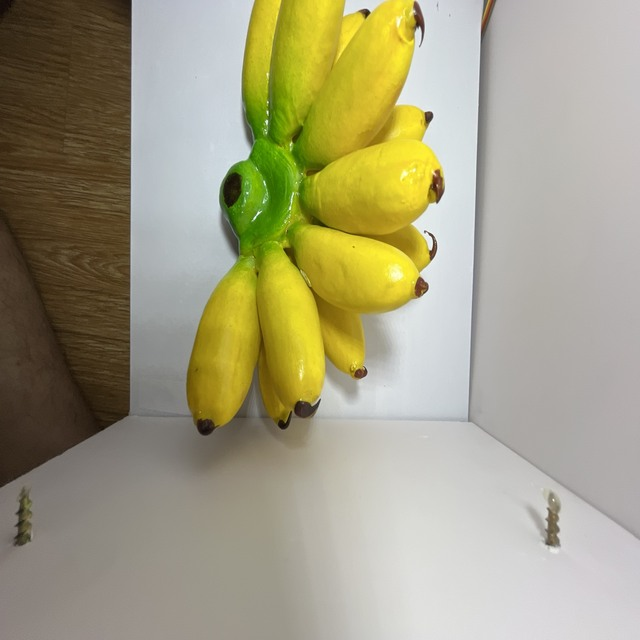Chuoi: (177, 0, 452, 439)
